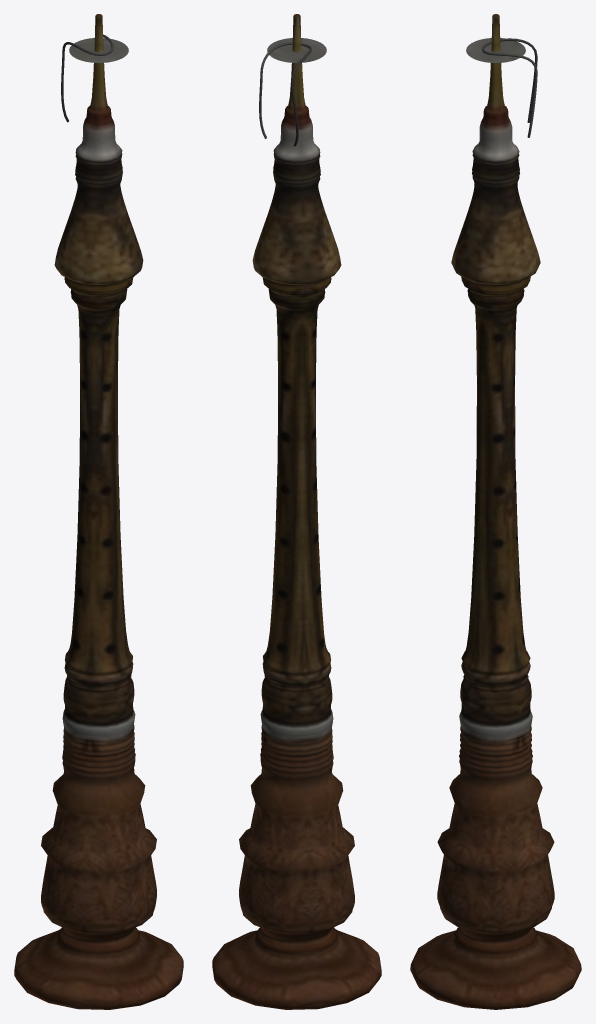
Rendered from serunai.glb.
3 views of the same model, side by side, from view 1: azimuth 30°, elevation 25°; view 2: azimuth 150°, elevation 25°; view 3: azimuth 270°, elevation 25° (orthographic).
Parts seen in each view (by area): view 1: Serunai Kelantan (ADR (KLTN) CHEISA 2)_Material.001_0_4; view 2: Serunai Kelantan (ADR (KLTN) CHEISA 2)_Material.001_0_4; view 3: Serunai Kelantan (ADR (KLTN) CHEISA 2)_Material.001_0_4.
Boxes of the visible parts, <box> form: Serunai Kelantan (ADR (KLTN) CHEISA 2)_Material.001_0_4: <box>14,14,183,1009</box>; Serunai Kelantan (ADR (KLTN) CHEISA 2)_Material.001_0_4: <box>212,14,381,1009</box>; Serunai Kelantan (ADR (KLTN) CHEISA 2)_Material.001_0_4: <box>410,14,581,1009</box>.
Size of the model in its own units: 0.154 by 0.955 by 0.154.
Materials: 1 (1 with a texture image).
